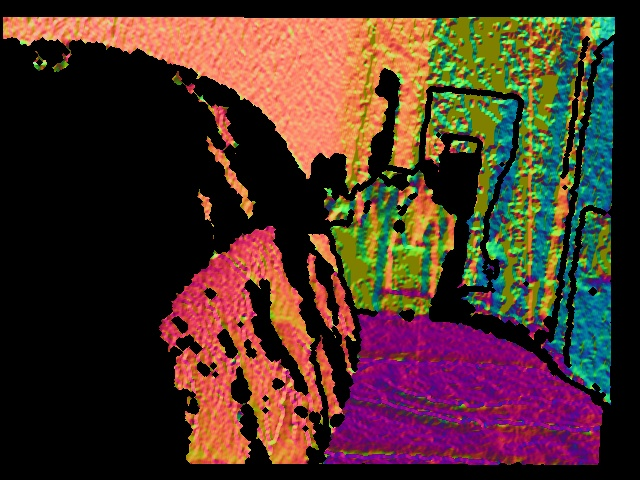station: (374, 239, 441, 316)
